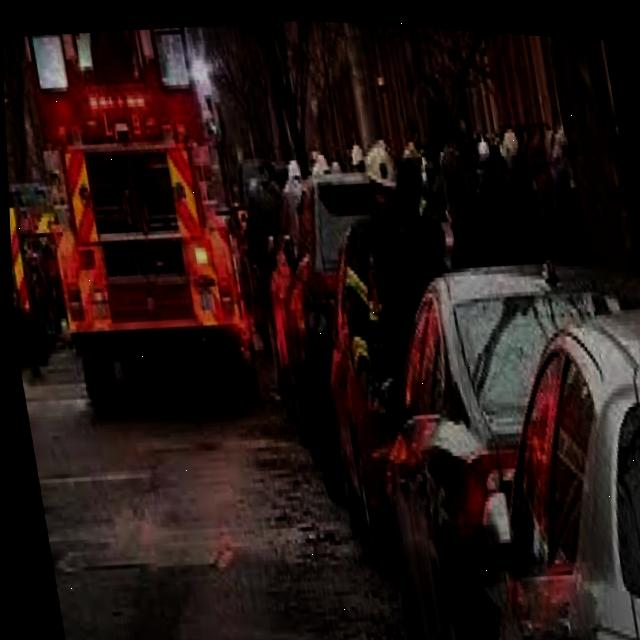emergency: (12, 15, 276, 412)
